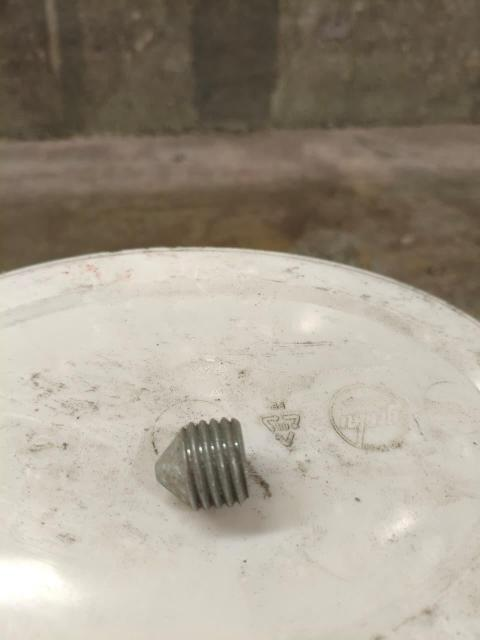Metal: (153, 417, 258, 515)
